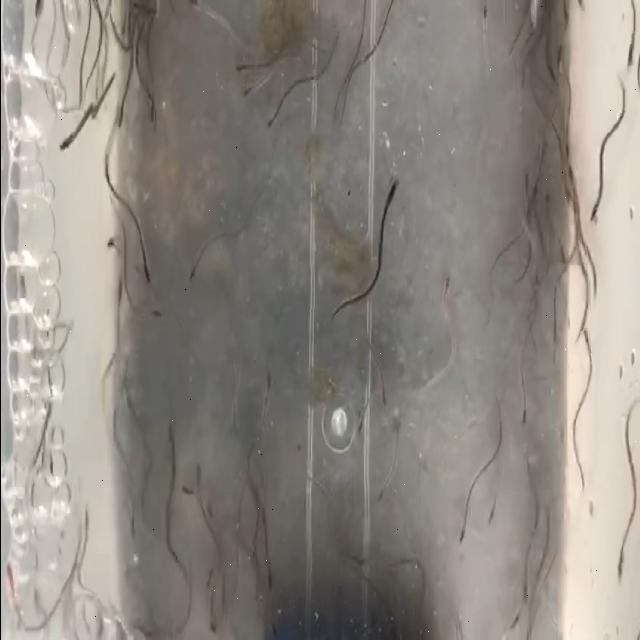active_glass_eel: (488, 477, 512, 528), (187, 234, 210, 280), (614, 514, 632, 567), (231, 41, 250, 90), (374, 376, 394, 422), (580, 335, 600, 377), (136, 98, 162, 130), (438, 278, 461, 314), (454, 506, 474, 544), (526, 175, 542, 222), (551, 0, 565, 52), (538, 8, 554, 53), (201, 488, 215, 538), (56, 119, 74, 157), (578, 267, 595, 305), (382, 178, 396, 224), (161, 506, 175, 551), (546, 287, 560, 331), (526, 509, 542, 546), (623, 6, 637, 48), (256, 106, 282, 128), (334, 556, 348, 594), (114, 81, 129, 116), (380, 460, 397, 490), (516, 400, 534, 428), (354, 392, 370, 423), (590, 189, 606, 219), (518, 558, 532, 592), (577, 106, 592, 136), (263, 548, 276, 582), (258, 370, 275, 396), (103, 228, 115, 264), (140, 250, 154, 280), (478, 0, 491, 32), (186, 0, 204, 23), (556, 120, 570, 148), (227, 402, 239, 434), (157, 299, 165, 329)
